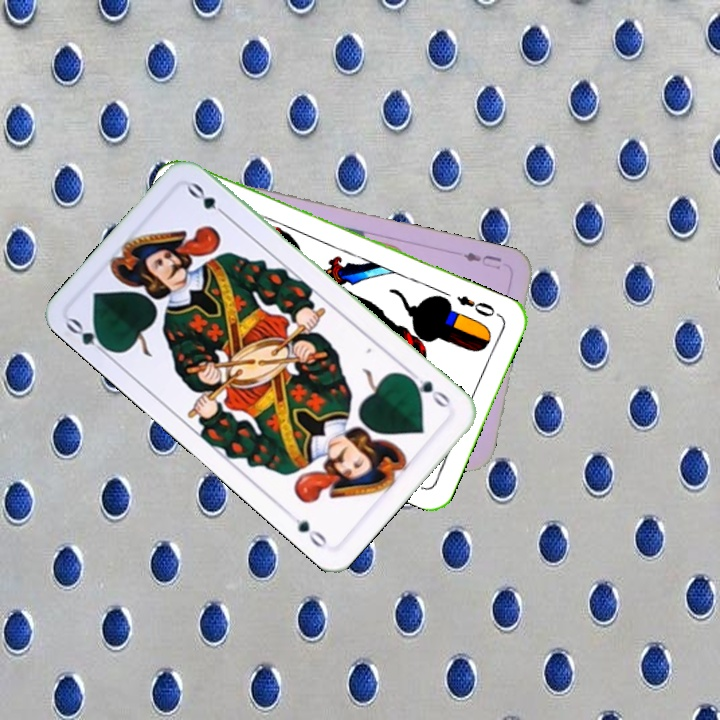EO: (452, 291, 498, 320)
EU: (459, 247, 504, 272)
GO: (62, 314, 116, 360), (404, 367, 453, 413)
